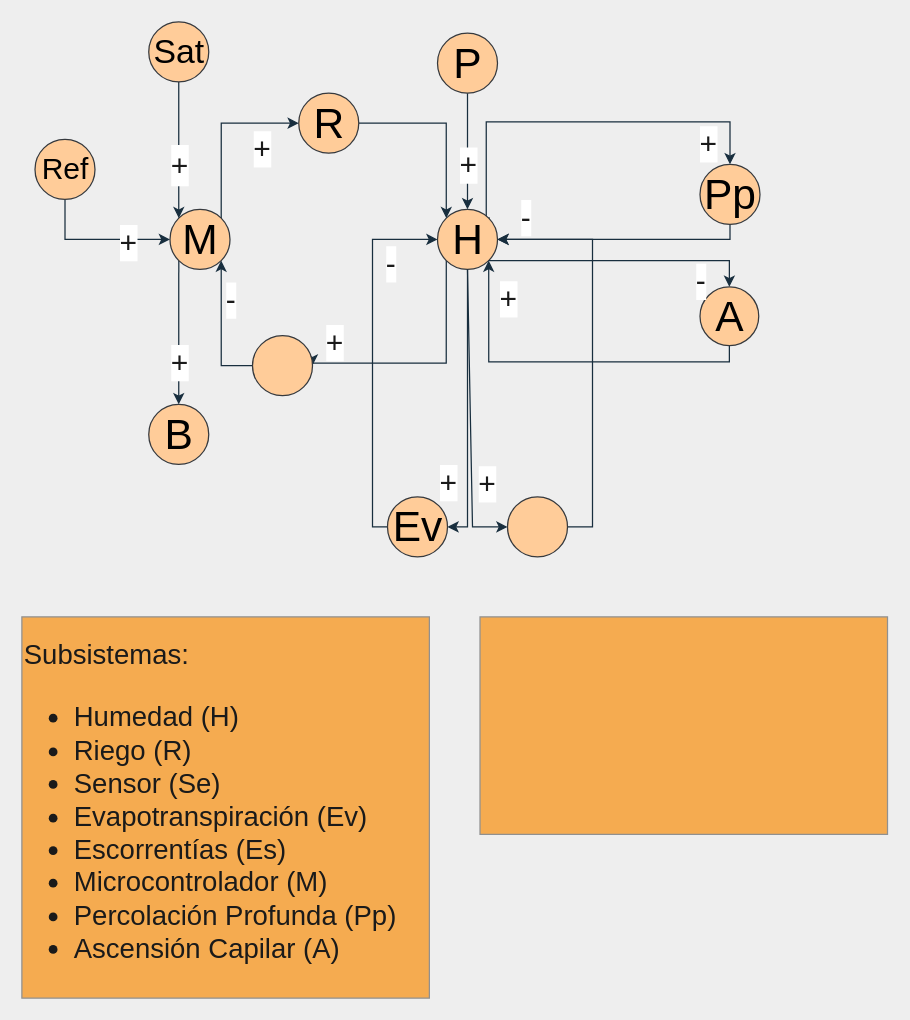
Some shapes in this 910 by 1020 pixel diagram are drawn without their labels. Here are the shapes that lost their labels. From the top down, the box of each, then its label:
(251, 334, 312, 396): Se
(506, 496, 568, 557): Es
(479, 616, 888, 834): Medio: Precipitaciones (P) Satélite (Sat) Base de Datos (B)
